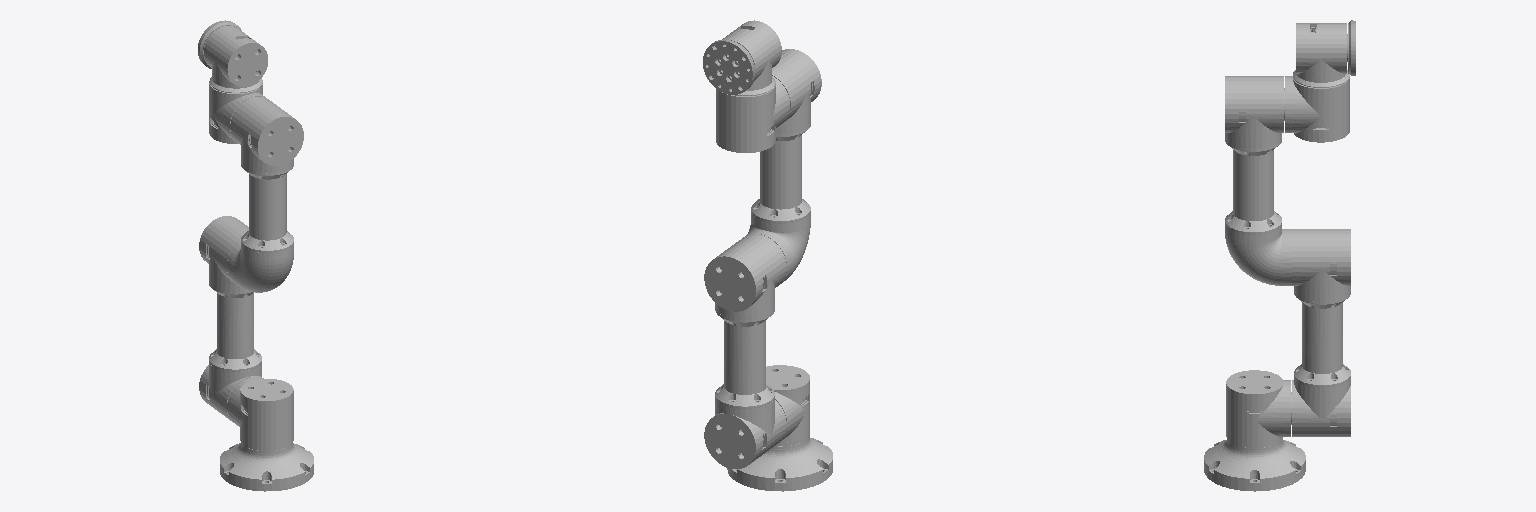
URDF robot description (EasyARM-A1):
<?xml version="1.0" encoding="utf-8"?>
<!-- This URDF was automatically created by SolidWorks to URDF Exporter! Originally created by Stephen Brawner (brawner@gmail.com) 
     Commit Version: 1.6.0-4-g7f85cfe  Build Version: 1.6.7995.38578
     For more information, please see http://wiki.ros.org/sw_urdf_exporter -->
<robot
  name="EasyARM-A1">
  <link
    name="base_link">
    <inertial>
      <origin
        xyz="2.5758E-10 -3.0493E-08 0.016711"
        rpy="0 0 0" />
      <mass
        value="0.24224" />
      <inertia
        ixx="0.00020254"
        ixy="-4.6091E-10"
        ixz="-2.9314E-13"
        iyy="0.00020254"
        iyz="4.519E-10"
        izz="0.00034674" />
    </inertial>
    <visual>
      <origin
        xyz="0 0 0"
        rpy="0 0 0" />
      <geometry>
        <mesh
          filename="package://easyarm_description/meshes/easyarm_h0521/base_link.STL" />
      </geometry>
      <material
        name="">
        <color
          rgba="0.75294 0.75294 0.75294 1" />
      </material>
    </visual>
    <collision>
      <origin
        xyz="0 0 0"
        rpy="0 0 0" />
      <geometry>
        <mesh
          filename="package://easyarm_description/meshes/easyarm_h0521/base_link.STL" />
      </geometry>
    </collision>
  </link>
  <link
    name="Link1">
    <inertial>
      <origin
        xyz="-7.21690131752495E-08 0.00511254917341276 -0.000356624091524357"
        rpy="0 0 0" />
      <mass
        value="0.216945425767562" />
      <inertia
        ixx="0.000122222116503187"
        ixy="5.53681437989864E-09"
        ixz="9.57637913979487E-12"
        iyy="0.000111674739393216"
        iyz="9.05616798141171E-06"
        izz="0.000121338206999658" />
    </inertial>
    <visual>
      <origin
        xyz="0 0 0"
        rpy="0 0 0" />
      <geometry>
        <mesh
          filename="package://easyarm_description/meshes/easyarm_h0521/Link1.STL" />
      </geometry>
      <material
        name="">
        <color
          rgba="0.752941176470588 0.752941176470588 0.752941176470588 1" />
      </material>
    </visual>
    <collision>
      <origin
        xyz="0 0 0"
        rpy="0 0 0" />
      <geometry>
        <mesh
          filename="package://easyarm_description/meshes/easyarm_h0521/Link1.STL" />
      </geometry>
    </collision>
  </link>
  <joint
    name="Joint1"
    type="revolute">
    <origin
      xyz="0 0 0.0734"
      rpy="0 0 0" />
    <parent
      link="base_link" />
    <child
      link="Link1" />
    <axis
      xyz="0 0 -1" />
    <limit
      lower="-3.14"
      upper="3.14"
      effort="14"
      velocity="10.0" />
  </joint>
  <link
    name="Link2">
    <inertial>
      <origin
        xyz="-0.0900001466079373 -1.19272577925322E-10 0.000346086661850387"
        rpy="0 0 0" />
      <mass
        value="0.603194751552504" />
      <inertia
        ixx="0.000305081008734232"
        ixy="-1.14049880301079E-08"
        ixz="1.62033013066951E-09"
        iyy="0.000441332972917462"
        iyz="-3.0081989349051E-12"
        izz="0.00043974892225027" />
    </inertial>
    <visual>
      <origin
        xyz="0 0 0"
        rpy="0 0 0" />
      <geometry>
        <mesh
          filename="package://easyarm_description/meshes/easyarm_h0521/Link2.STL" />
      </geometry>
      <material
        name="">
        <color
          rgba="0.752941176470588 0.752941176470588 0.752941176470588 1" />
      </material>
    </visual>
    <collision>
      <origin
        xyz="0 0 0"
        rpy="0 0 0" />
      <geometry>
        <mesh
          filename="package://easyarm_description/meshes/easyarm_h0521/Link2.STL" />
      </geometry>
    </collision>
  </link>
  <joint
    name="Joint2"
    type="revolute">
    <origin
      xyz="0 0.073 0"
      rpy="-1.5708 1.5708 0" />
    <parent
      link="Link1" />
    <child
      link="Link2" />
    <axis
      xyz="0 0 -1" />
    <limit
      lower="-3.14"
      upper="3.14"
      effort="14"
      velocity="10.0" />
  </joint>
  <link
    name="Link3">
    <inertial>
      <origin
        xyz="-0.105190051004392 3.55921223049727E-09 -0.0712241972170389"
        rpy="0 0 0" />
      <mass
        value="0.520405495271332" />
      <inertia
        ixx="0.000295545673533635"
        ixy="5.5014383773553E-09"
        ixz="-3.06046523464979E-05"
        iyy="0.000424271984084884"
        iyz="-7.78256962184493E-11"
        izz="0.000408163241167388" />
    </inertial>
    <visual>
      <origin
        xyz="0 0 0"
        rpy="0 0 0" />
      <geometry>
        <mesh
          filename="package://easyarm_description/meshes/easyarm_h0521/Link3.STL" />
      </geometry>
      <material
        name="">
        <color
          rgba="0.752941176470588 0.752941176470588 0.752941176470588 1" />
      </material>
    </visual>
    <collision>
      <origin
        xyz="0 0 0"
        rpy="0 0 0" />
      <geometry>
        <mesh
          filename="package://easyarm_description/meshes/easyarm_h0521/Link3.STL" />
      </geometry>
    </collision>
  </link>
  <joint
    name="Joint3"
    type="revolute">
    <origin
      xyz="-0.18 0 0"
      rpy="0 0 0" />
    <parent
      link="Link2" />
    <child
      link="Link3" />
    <axis
      xyz="0 0 1" />
    <limit
      lower="-3.14"
      upper="3.14"
      effort="14"
      velocity="10.0" />
  </joint>
  <link
    name="Link4">
    <inertial>
      <origin
        xyz="-0.000356625278989775 8.17763373892055E-08 -0.0664878530923041"
        rpy="0 0 0" />
      <mass
        value="0.216945440762847" />
      <inertia
        ixx="0.000121338182503669"
        ixy="6.65208368822259E-11"
        ixz="9.05779382020489E-06"
        iyy="0.000122222111877508"
        iyz="5.52779112970944E-09"
        izz="0.000111674732516474" />
    </inertial>
    <visual>
      <origin
        xyz="0 0 0"
        rpy="0 0 0" />
      <geometry>
        <mesh
          filename="package://easyarm_description/meshes/easyarm_h0521/Link4.STL" />
      </geometry>
      <material
        name="">
        <color
          rgba="0.752941176470588 0.752941176470588 0.752941176470588 1" />
      </material>
    </visual>
    <collision>
      <origin
        xyz="0 0 0"
        rpy="0 0 0" />
      <geometry>
        <mesh
          filename="package://easyarm_description/meshes/easyarm_h0521/Link4.STL" />
      </geometry>
    </collision>
  </link>
  <joint
    name="Joint4"
    type="revolute">
    <origin
      xyz="-0.182 0 -0.073"
      rpy="3.1416 0 0" />
    <parent
      link="Link3" />
    <child
      link="Link4" />
    <axis
      xyz="0 0 1" />
    <limit
      lower="-3.14"
      upper="3.14"
      effort="14"
      velocity="10.0" />
  </joint>
  <link
    name="Link5">
    <inertial>
      <origin
        xyz="1.95555779521628E-05 -0.00178155268725853 -0.0601366457896128"
        rpy="0 0 0" />
      <mass
        value="0.124888279561139" />
      <inertia
        ixx="6.41730718145436E-05"
        ixy="1.75318703995971E-08"
        ixz="1.07754540082814E-07"
        iyy="6.93104037102666E-05"
        iyz="-4.0944501597028E-06"
        izz="5.6932382543505E-05" />
    </inertial>
    <visual>
      <origin
        xyz="0 0 0"
        rpy="0 0 0" />
      <geometry>
        <mesh
          filename="package://easyarm_description/meshes/easyarm_h0521/Link5.STL" />
      </geometry>
      <material
        name="">
        <color
          rgba="0.752941176470588 0.752941176470588 0.752941176470588 1" />
      </material>
    </visual>
    <collision>
      <origin
        xyz="0 0 0"
        rpy="0 0 0" />
      <geometry>
        <mesh
          filename="package://easyarm_description/meshes/easyarm_h0521/Link5.STL" />
      </geometry>
    </collision>
  </link>
  <joint
    name="Joint5"
    type="revolute">
    <origin
      xyz="0 0 -0.0716"
      rpy="-1.5708 0 -1.5708" />
    <parent
      link="Link4" />
    <child
      link="Link5" />
    <axis
      xyz="0 0 1" />
    <limit
      lower="-3.14"
      upper="3.14"
      effort="14"
      velocity="10.0" />
  </joint>
  <link
    name="Link6">
    <inertial>
      <origin
        xyz="-1.11022302462516E-16 -9.71445146547012E-17 0.00464068031768159"
        rpy="0 0 0" />
      <mass
        value="0.0271942674179733" />
      <inertia
        ixx="6.16097454689578E-06"
        ixy="-1.2061822248802E-21"
        ixz="-4.55724760093419E-21"
        iyy="6.16097454689578E-06"
        iyz="1.05879118406788E-20"
        izz="1.19367922017072E-05" />
    </inertial>
    <visual>
      <origin
        xyz="0 0 0"
        rpy="0 0 0" />
      <geometry>
        <mesh
          filename="package://easyarm_description/meshes/easyarm_h0521/Link6.STL" />
      </geometry>
      <material
        name="">
        <color
          rgba="0.698039215686274 0.698039215686274 0.698039215686274 1" />
      </material>
    </visual>
    <collision>
      <origin
        xyz="0 0 0"
        rpy="0 0 0" />
      <geometry>
        <mesh
          filename="package://easyarm_description/meshes/easyarm_h0521/Link6.STL" />
      </geometry>
    </collision>
  </link>
  <joint
    name="Joint6"
    type="revolute">
    <origin
      xyz="0 0.0375 -0.067"
      rpy="1.5708 -1.5708 0" />
    <parent
      link="Link5" />
    <child
      link="Link6" />
    <axis
      xyz="0 0 1" />
    <limit
      lower="-3.14"
      upper="3.14"
      effort="6"
      velocity="10.0" />
  </joint>
</robot>

--- Render facts (derived) ---
3 views of the same robot in one strip: view 1: azimuth 30°, elevation 25°; view 2: azimuth 150°, elevation 25°; view 3: azimuth 270°, elevation 25° (orthographic).
Model EasyARM-A1 with 7 links and 6 joints (6 revolute), rooted at base_link, posed every joint at zero.
Visible links, largest first — view 1: Link3, Link2, Link1, base_link, Link5, Link4; view 2: Link2, Link3, Link4, base_link, Link1, Link6, Link5; view 3: Link2, Link3, Link1, base_link, Link4, Link5.
Link boxes in pixels (x1,y1,x2,y2): Link3: (227, 97, 303, 292); Link2: (199, 216, 263, 420); Link1: (227, 377, 293, 450); base_link: (220, 443, 313, 491); Link5: (204, 26, 267, 92); Link4: (209, 83, 265, 143); Link2: (704, 234, 786, 468); Link3: (746, 49, 821, 283); Link4: (716, 76, 789, 152); base_link: (727, 436, 832, 491); Link1: (766, 365, 809, 445); Link6: (703, 39, 754, 94); Link5: (722, 20, 781, 95); Link2: (1292, 229, 1350, 436); Link3: (1225, 76, 1291, 285); Link1: (1226, 370, 1291, 447); base_link: (1204, 439, 1305, 491); Link4: (1284, 76, 1349, 142); Link5: (1293, 23, 1349, 87).
Bounding box of the posed robot: 0.11 × 0.1641 × 0.5324 m (x, y, z).
7 mesh visuals loaded from 7 distinct referenced files (7 binary STL).
